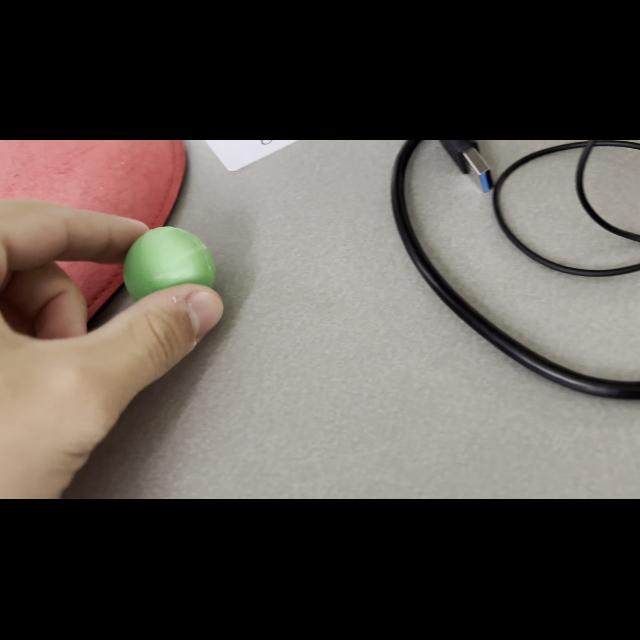objects: (119, 222, 218, 304)
